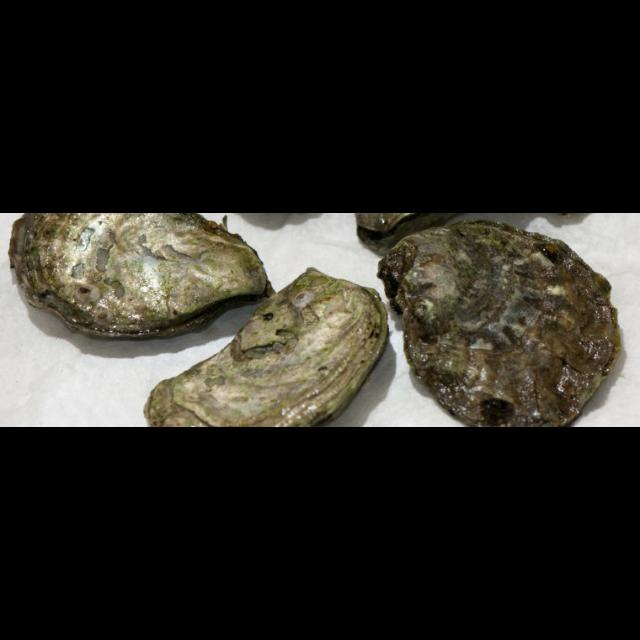Oyster-Closed: (378, 218, 621, 428), (143, 269, 388, 428), (9, 213, 271, 342), (357, 213, 456, 253)
